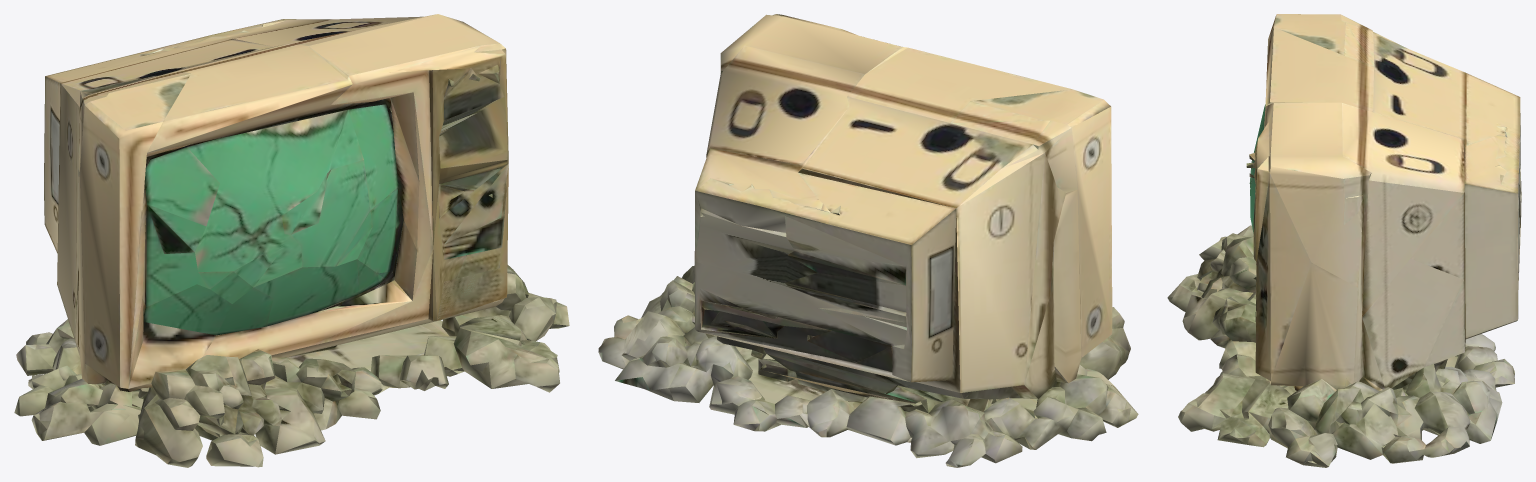
The model's file is trash-crt.glb.
The picture shows the model from 3 angles, left to right: view 1: azimuth 30°, elevation 25°; view 2: azimuth 150°, elevation 25°; view 3: azimuth 270°, elevation 25°; orthographic projection. The views are drawn at different scales.
Size of the model in its own units: 1.89 by 1.11 by 1.33.
1 material, 1 textured.
